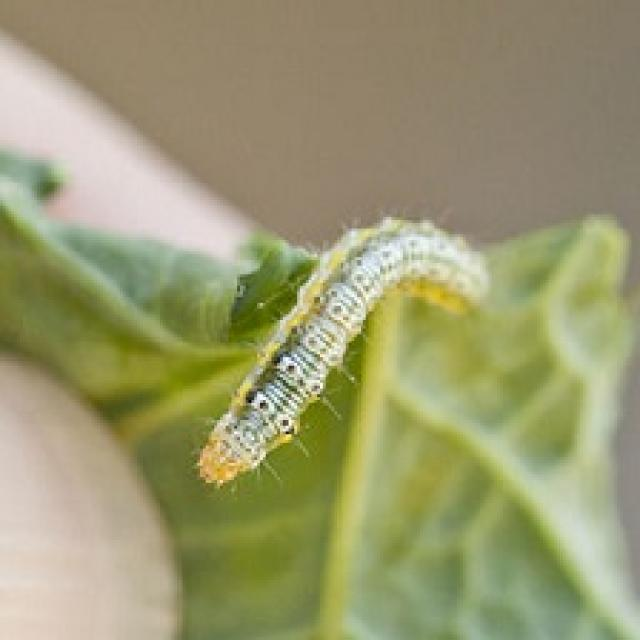Cabbage-worm: (200, 200, 486, 498)
